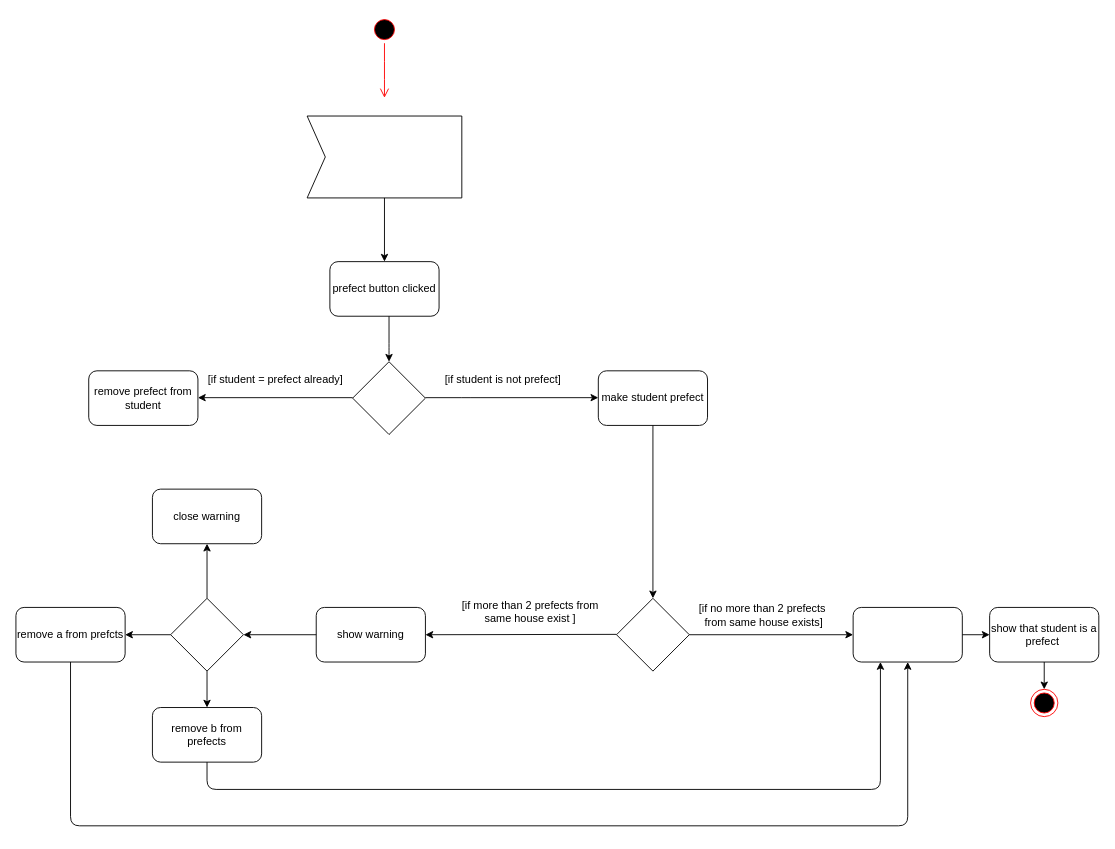
The diagram is 1115 pixels wide and 849 high, and some of its shapes have lost their labels. Here are the shapes that lost their labels. From the top down, the centre of each, then its label:
the point at 384,156: wait for click on prefect button
the point at 907,634: make student a prefect
